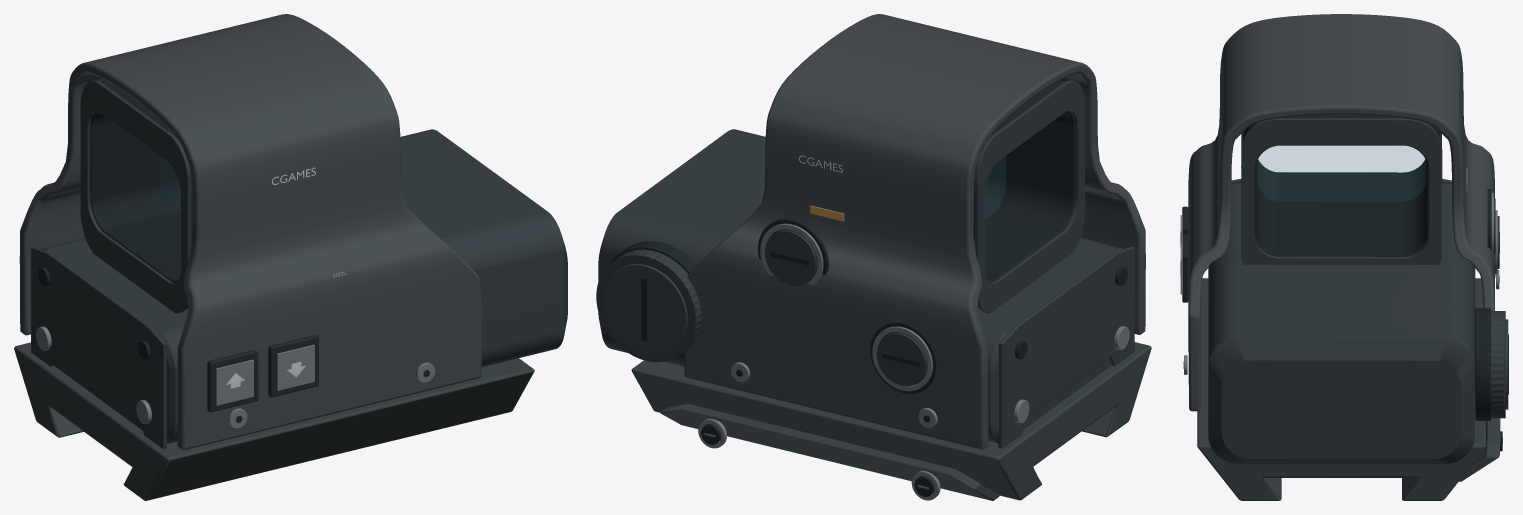
File: H02_long_Legacy_K1_Rail_Top.fbx
The picture shows the model from 3 angles, left to right: view 1: azimuth 30°, elevation 25°; view 2: azimuth 150°, elevation 25°; view 3: azimuth 270°, elevation 25°; orthographic projection. The views are drawn at different scales.
Visible parts, largest first — view 1: 01 open protective U hood, 02 rounded forward casing, 04 undercut adapter bridge, 02 rear visible face plate, 03 inner window structural frame, 03 window rim rear, 05 left button gasket.001, 05 left button face.001, 05 left button face, 05 left button gasket, 03 transparent visual pane; view 2: 01 open protective U hood, 04 undercut adapter bridge, 02 rounded forward casing, 02 rear visible face plate, 03 inner window structural frame, 03 window rim rear, 04 independent right side strip, 05 front cap center, 05 front cap fine grip, 05 right inset disk, 05 right inset disk.001, 05 right satin disk edge.001 (+5 smaller); view 3: 02 rounded forward casing, 01 open protective U hood, 03 inner window structural frame, 03 window rim front, 03 transparent visual pane, 04 undercut adapter bridge, 05 front side cap seat, 05 front cap fine grip, 04 independent right side strip, 05 left button gasket.
Part boxes in pixels (left/top/right/bottom): 01 open protective U hood: left=19, top=14, right=481, bottom=450; 02 rounded forward casing: left=42, top=129, right=567, bottom=443; 04 undercut adapter bridge: left=14, top=342, right=534, bottom=500; 02 rear visible face plate: left=31, top=247, right=167, bottom=448; 03 inner window structural frame: left=90, top=80, right=191, bottom=308; 03 window rim rear: left=80, top=80, right=191, bottom=313; 05 left button gasket.001: left=207, top=349, right=258, bottom=412; 05 left button face.001: left=216, top=359, right=253, bottom=405; 05 left button face: left=277, top=344, right=314, bottom=390; 05 left button gasket: left=268, top=334, right=318, bottom=397; 03 transparent visual pane: left=160, top=156, right=180, bottom=219; 01 open protective U hood: left=684, top=14, right=1145, bottom=449; 04 undercut adapter bridge: left=631, top=342, right=1151, bottom=500; 02 rounded forward casing: left=598, top=129, right=1123, bottom=443; 02 rear visible face plate: left=998, top=246, right=1134, bottom=448; 03 inner window structural frame: left=973, top=80, right=1075, bottom=308; 03 window rim rear: left=974, top=80, right=1084, bottom=313; 04 independent right side strip: left=660, top=404, right=999, bottom=500; 05 front cap center: left=603, top=264, right=687, bottom=354; 05 front cap fine grip: left=596, top=249, right=701, bottom=362; 05 right inset disk: left=764, top=230, right=816, bottom=285; 05 right inset disk.001: left=876, top=333, right=926, bottom=386; 05 right satin disk edge.001: left=872, top=326, right=932, bottom=391; 02 rounded forward casing: left=1208, top=183, right=1475, bottom=464; 01 open protective U hood: left=1188, top=14, right=1494, bottom=411; 03 inner window structural frame: left=1243, top=114, right=1440, bottom=256; 03 window rim front: left=1241, top=118, right=1442, bottom=264; 03 transparent visual pane: left=1257, top=146, right=1425, bottom=201; 04 undercut adapter bridge: left=1197, top=278, right=1485, bottom=500; 05 front side cap seat: left=1475, top=308, right=1490, bottom=420; 05 front cap fine grip: left=1491, top=311, right=1505, bottom=418; 04 independent right side strip: left=1459, top=418, right=1500, bottom=481; 05 left button gasket: left=1182, top=234, right=1188, bottom=302.
Bounding box in the file's own units: 9.83 × 8.25 × 7.24.
